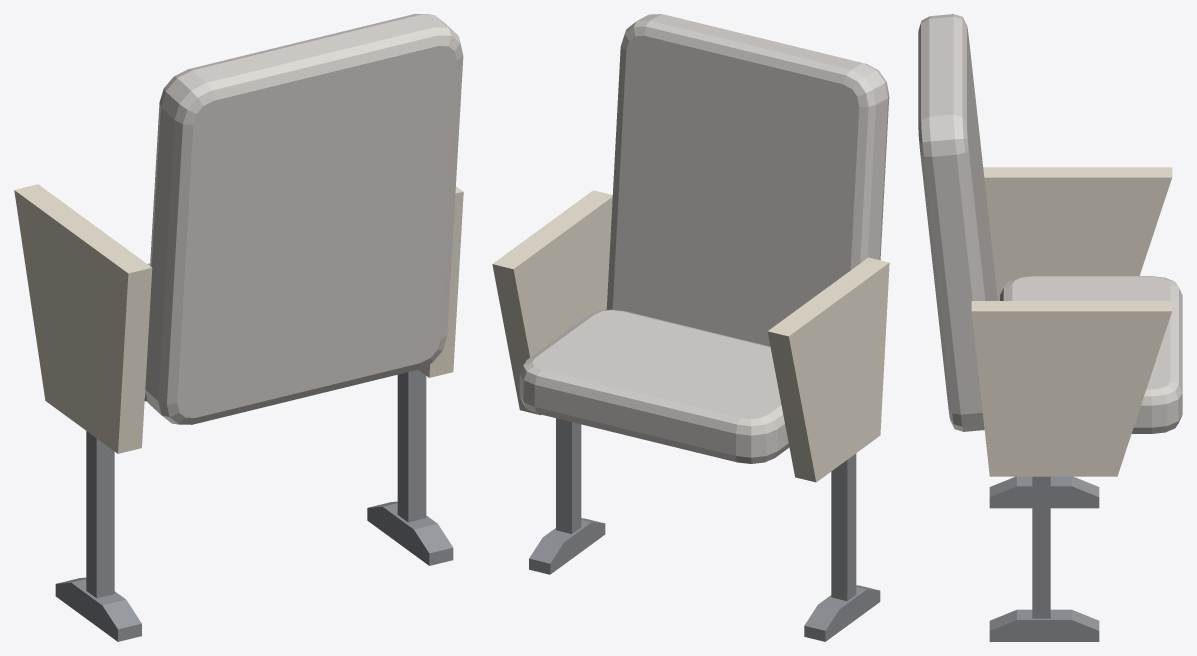
File: seat.fbx
The picture shows the model from 3 angles, left to right: view 1: azimuth 30°, elevation 25°; view 2: azimuth 150°, elevation 25°; view 3: azimuth 270°, elevation 25°; orthographic projection. The views are drawn at different scales.
Parts seen in each view (by area): view 1: Seat; view 2: Seat; view 3: Seat.
Part boxes in pixels (x1,y1,x2,y2): Seat: (14, 14, 463, 641); Seat: (492, 14, 889, 641); Seat: (918, 14, 1182, 641).
Bounding box in the file's own units: 56 × 91.52 × 43.43.
